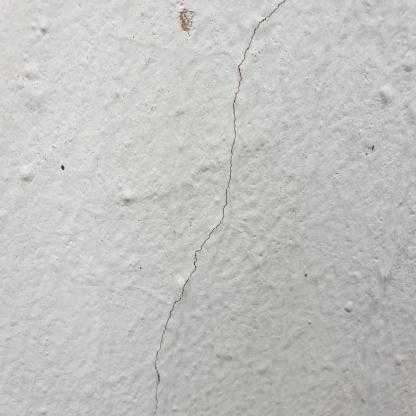crack: (154, 0, 285, 415)
